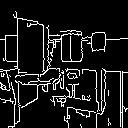cube: (11, 11, 56, 75), (54, 25, 86, 66), (88, 29, 111, 55)
